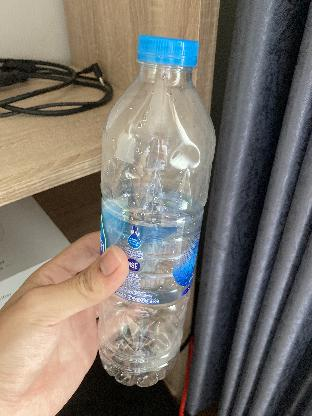Plastic Bottle: (98, 31, 220, 394)
